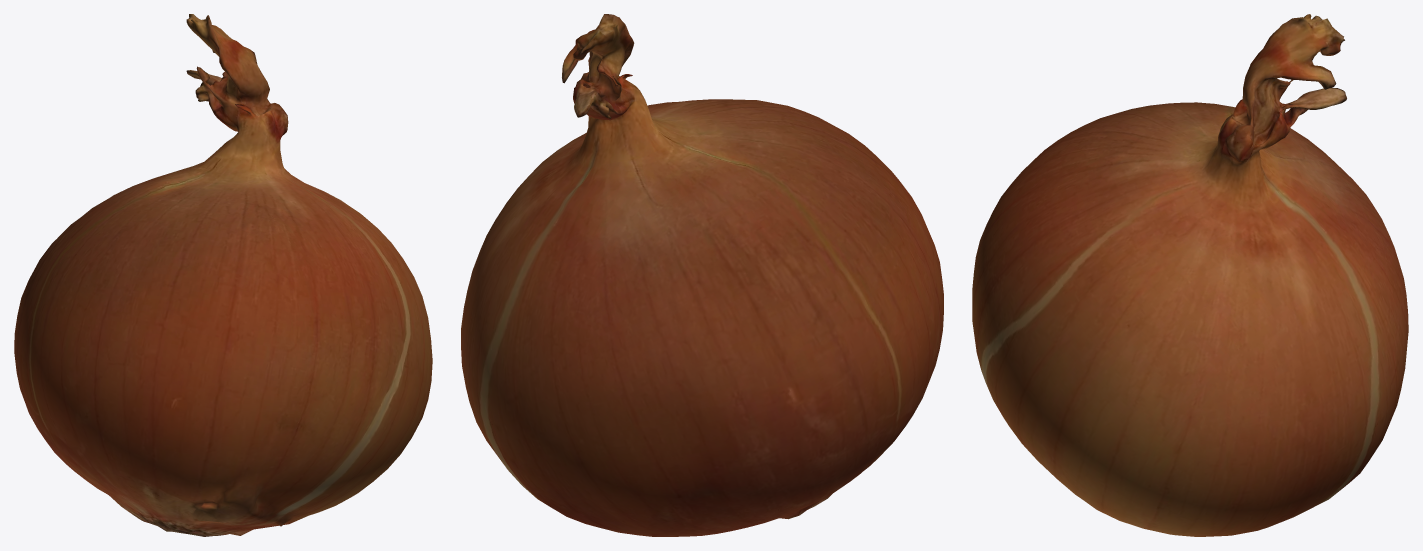
The model's file is yellow_onion.glb.
3 renders of one model, left to right at view 1: azimuth 30°, elevation 25°; view 2: azimuth 150°, elevation 25°; view 3: azimuth 270°, elevation 25°, orthographic. The views are drawn at different scales.
Parts seen in each view (by area): view 1: yellow_onion; view 2: yellow_onion; view 3: yellow_onion.
Boxes of the visible parts, <box> form: yellow_onion: <box>14,14,432,536</box>; yellow_onion: <box>461,14,943,536</box>; yellow_onion: <box>972,14,1408,536</box>.
Bounding box in the file's own units: 0.0725 × 0.0864 × 0.0686.
Materials: 1 (1 with a texture image).
